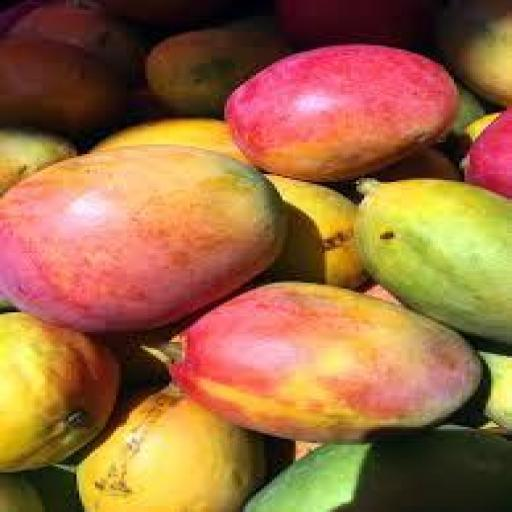mango: (0, 147, 285, 332), (169, 283, 480, 442), (225, 44, 459, 181)
